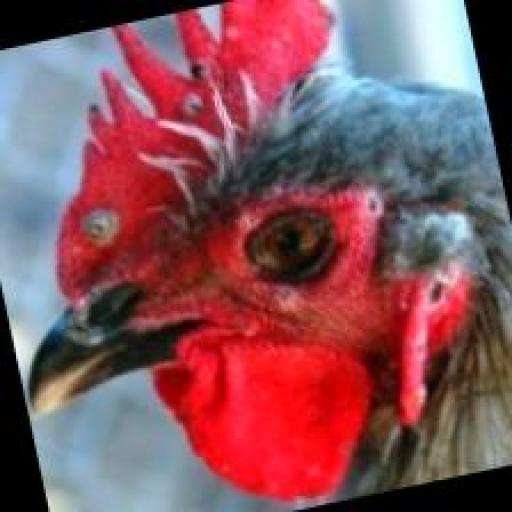disease: (215, 190, 346, 334), (165, 40, 234, 123), (416, 260, 462, 361), (78, 196, 131, 254), (363, 164, 394, 228)
